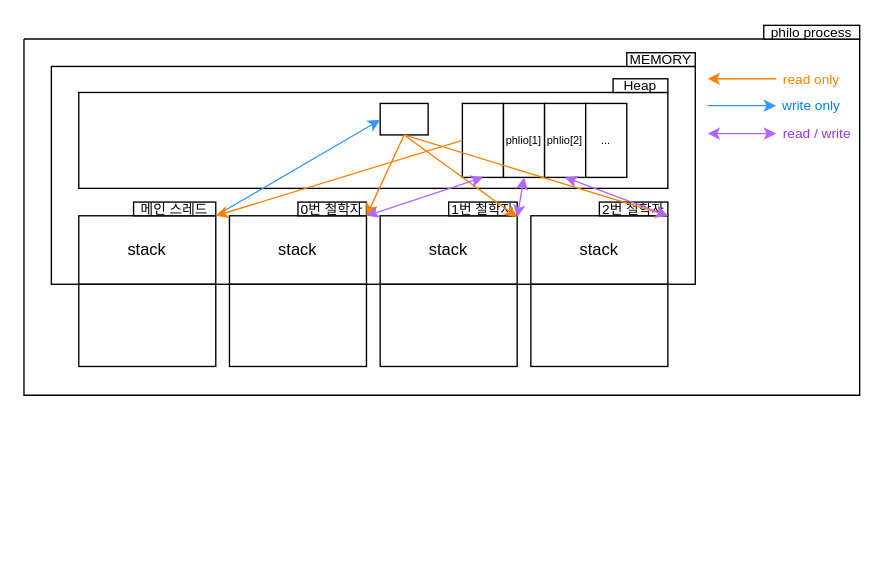
The diagram is 884 pixels wide and 567 high, and some of its shapes have lost their labels. Here are the shapes that lost their labels. From the top down, the centre of each, then its label:
At point (403, 118): "is_die".
At point (482, 139): "phlio[0]".
